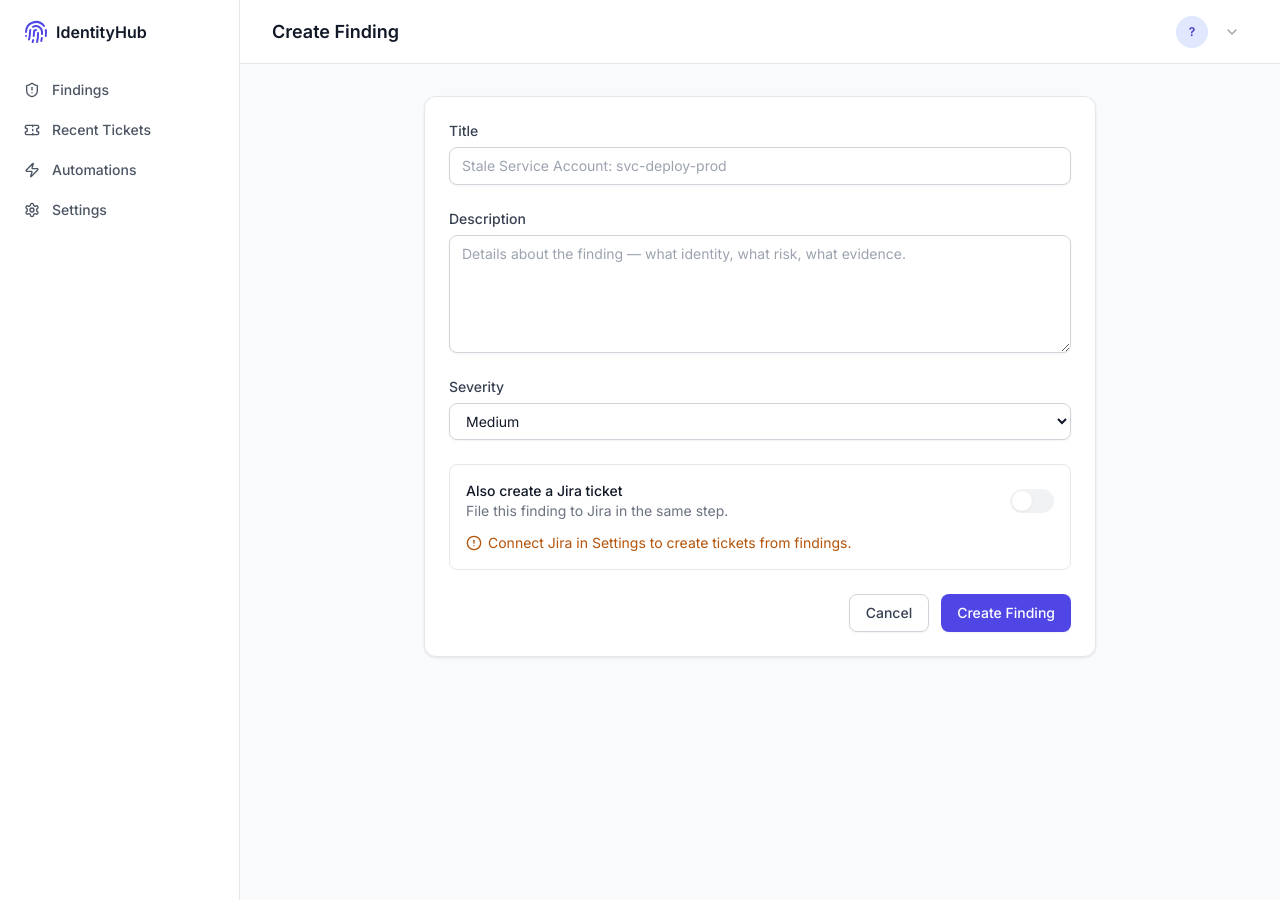
Test: CreateFindingPage › shows field-level validation errors returned by the API
Type "X" into the field labelled "Title".
click(760, 166); type("X")  # box [449,147,1071,185]
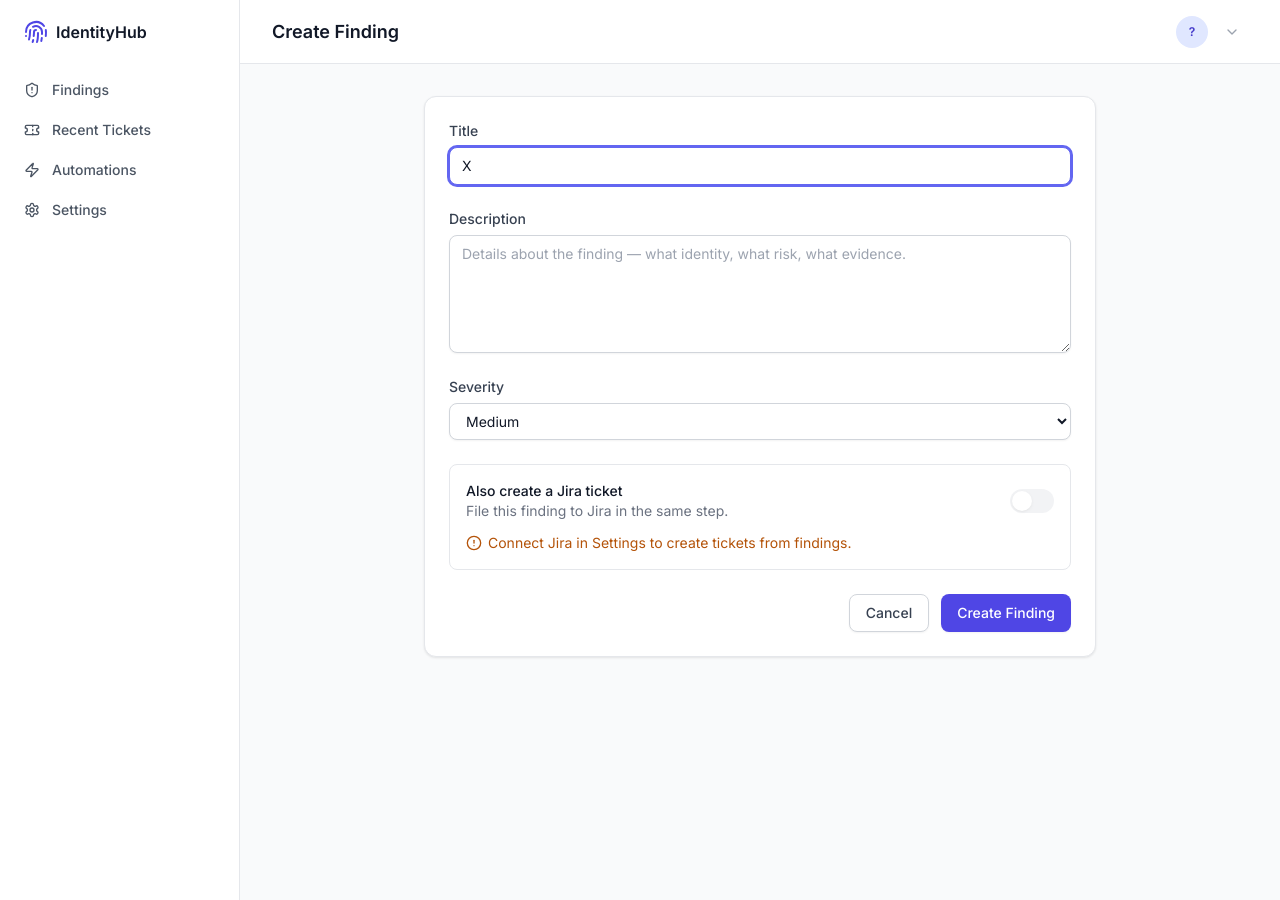
Type "Y" into the text box labelled "Description".
click(760, 294); type("Y")  # box [449,235,1071,353]
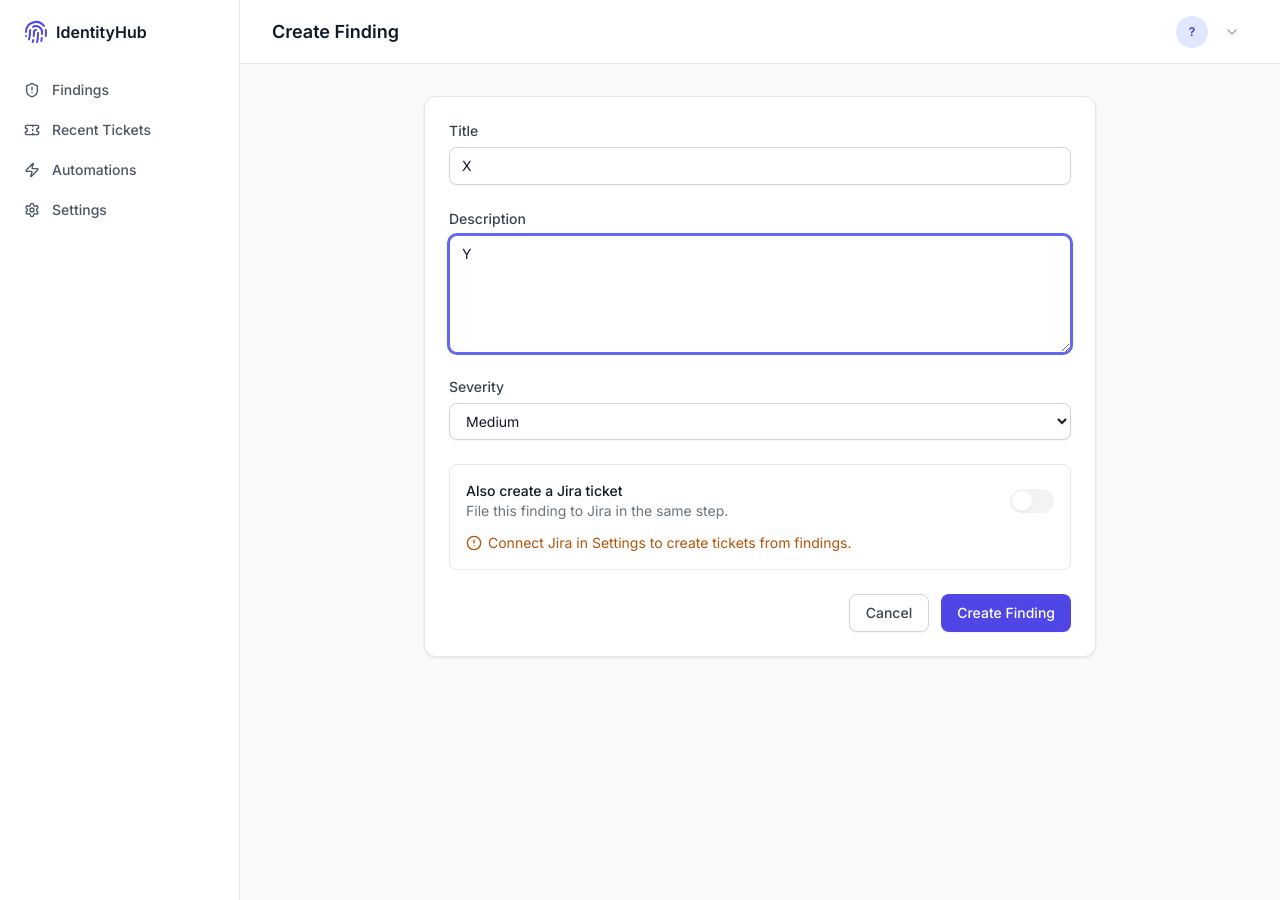
Click the button "Create Finding".
click(1006, 613)  # box [941,594,1071,632]
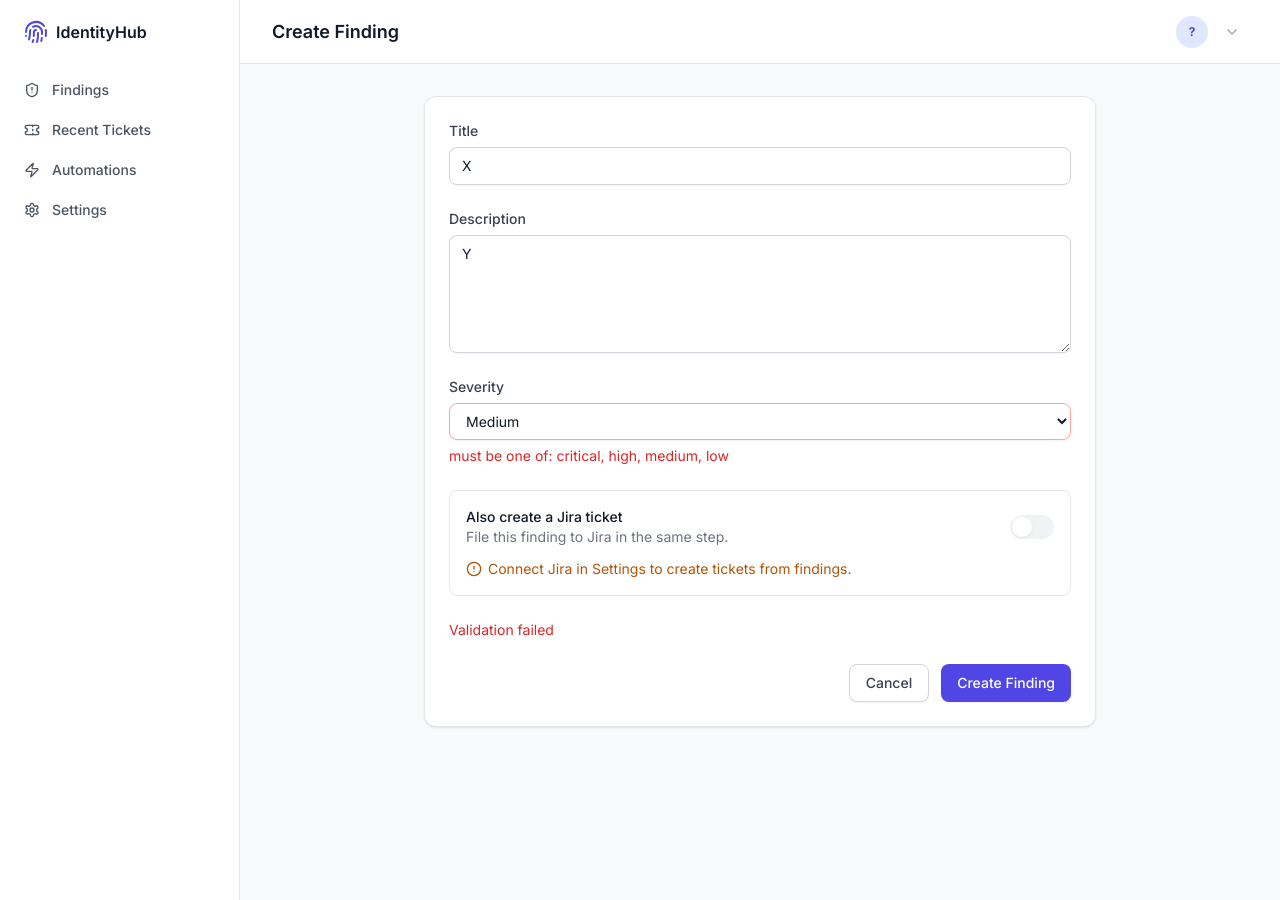
Now the text "must be one of: critical, high, medium, low" is shown, box [449,447,729,464]
